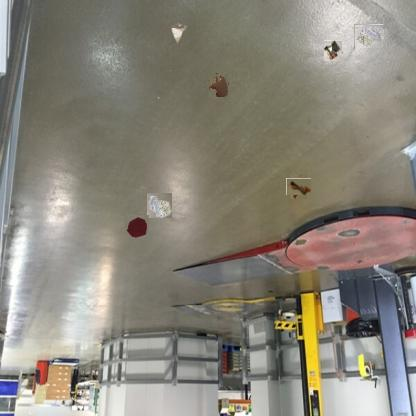dirty: (354, 24, 384, 48), (146, 192, 172, 218), (288, 176, 309, 197), (171, 21, 188, 45), (324, 40, 342, 61)
liquid: (125, 214, 149, 238), (208, 74, 228, 98)
